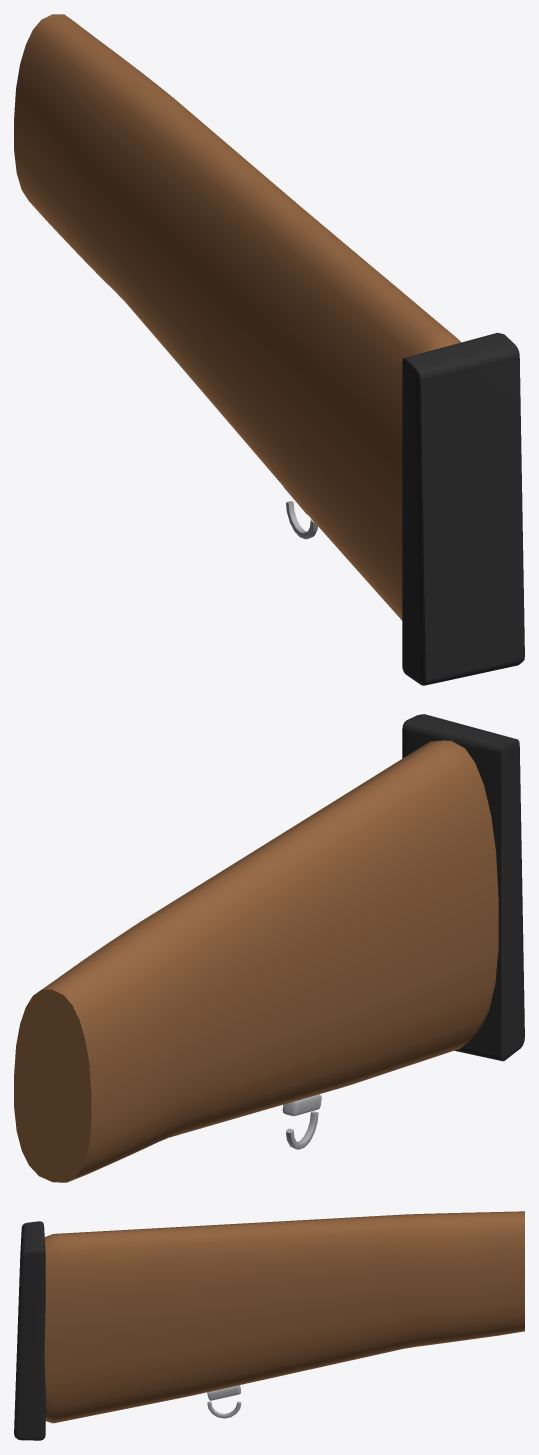
The model's file is stock_toz_double.glb.
3 renders of one model, top to bottom at view 1: azimuth 30°, elevation 25°; view 2: azimuth 150°, elevation 25°; view 3: azimuth 270°, elevation 25°, orthographic. The views are drawn at different scales.
Visible parts, largest first — view 1: static_butt.001; view 2: static_butt.001; view 3: static_butt.001.
Part boxes in pixels (<box>): static_butt.001: <box>14,14,524,685</box>; static_butt.001: <box>14,714,524,1182</box>; static_butt.001: <box>14,1211,524,1440</box>.
Bounding box in the file's own units: 0.043 × 0.1416 × 0.3059.
